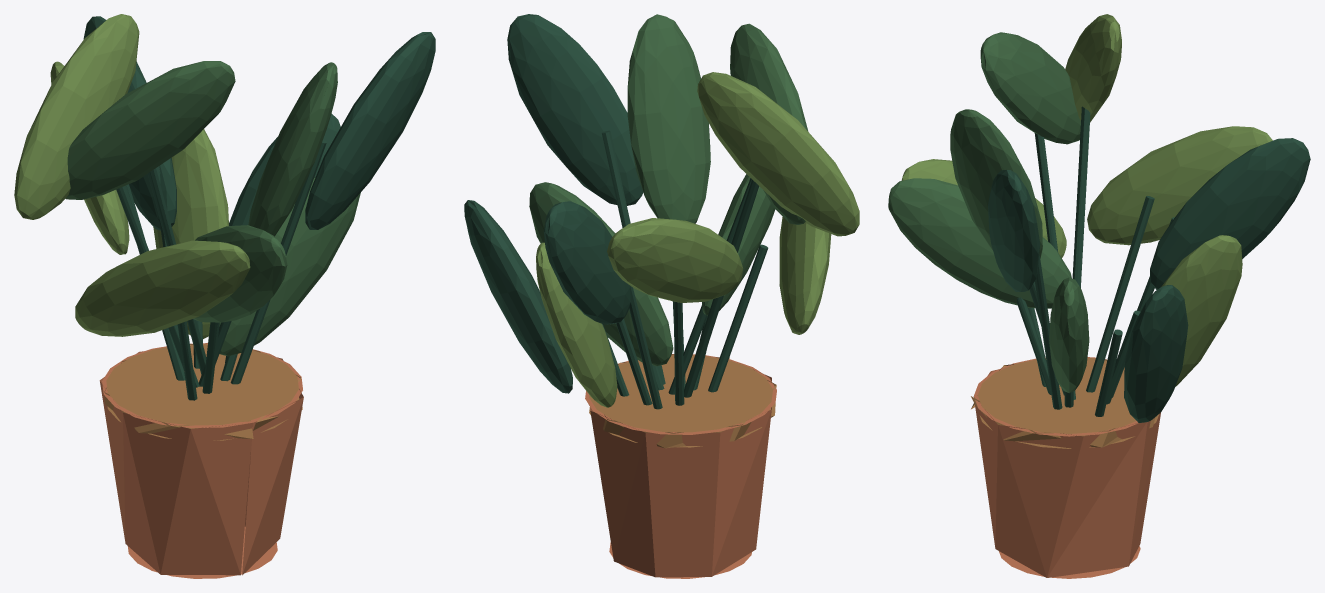
The model's file is better.glb.
3 renders of one model, left to right at view 1: azimuth 30°, elevation 25°; view 2: azimuth 150°, elevation 25°; view 3: azimuth 270°, elevation 25°, orthographic. The views are drawn at different scales.
Visible parts, largest first — view 1: Native component 18, Native component 14, Native component 0, Native component 10, Native component 1; view 2: Native component 10, Native component 18, Native component 14, Native component 0, Native component 1; view 3: Native component 10, Native component 14, Native component 0, Native component 18, Native component 1.
Boxes of the visible parts, left/top/right/bottom form: Native component 18: left=14, top=14, right=250, bottom=338; Native component 14: left=65, top=61, right=360, bottom=356; Native component 0: left=99, top=343, right=303, bottom=578; Native component 10: left=83, top=16, right=435, bottom=400; Native component 1: left=104, top=343, right=302, bottom=440; Native component 10: left=464, top=14, right=768, bottom=409; Native component 18: left=536, top=72, right=859, bottom=407; Native component 14: left=529, top=14, right=808, bottom=366; Native component 0: left=585, top=354, right=776, bottom=578; Native component 1: left=589, top=354, right=776, bottom=448; Native component 10: left=988, top=106, right=1310, bottom=422; Native component 14: left=888, top=32, right=1089, bottom=392; Native component 0: left=973, top=357, right=1160, bottom=578; Native component 18: left=901, top=14, right=1272, bottom=386; Native component 1: left=971, top=358, right=1159, bottom=448.
Size of the model in its own units: 1.27 by 1.63 by 1.25.
